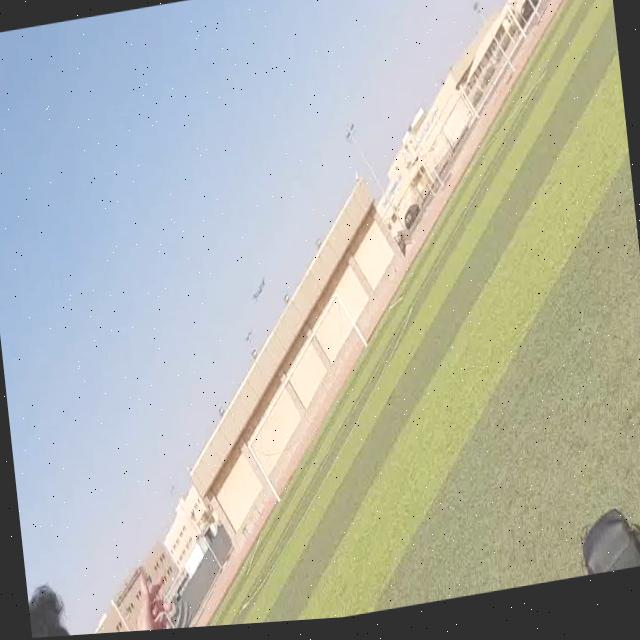drone: (244, 262, 274, 307)
